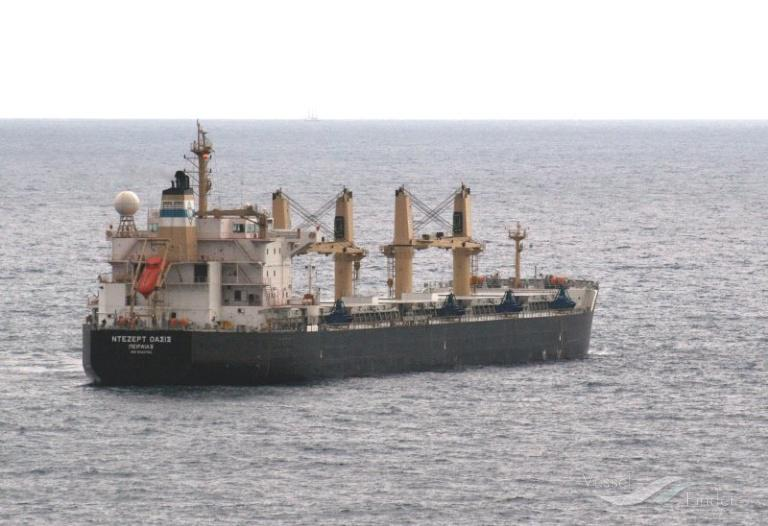OCR: (106, 328, 172, 355)
